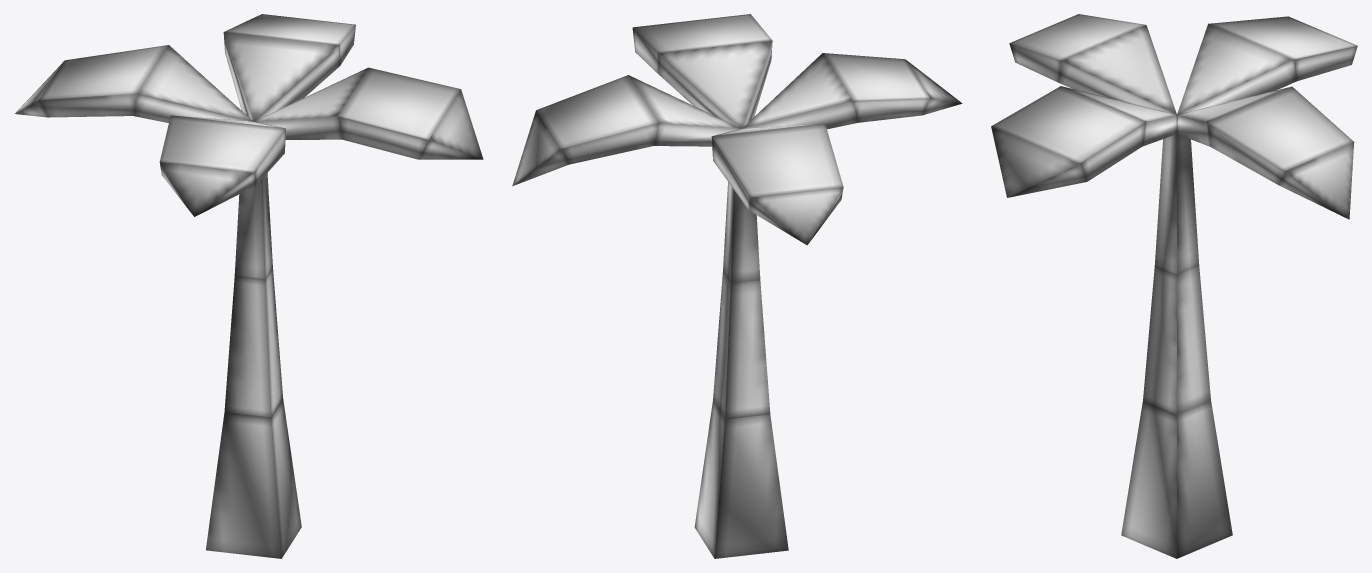
File: Palmtree-01.fbx
The picture shows the model from 3 angles, left to right: view 1: azimuth 30°, elevation 25°; view 2: azimuth 150°, elevation 25°; view 3: azimuth 270°, elevation 25°; orthographic projection. The views are drawn at different scales.
Parts seen in each view (by area): view 1: Palmtree-01; view 2: Palmtree-01; view 3: Palmtree-01.
Part boxes in pixels (box(x1,y1,x2,y2)): Palmtree-01: box(15, 14, 483, 558); Palmtree-01: box(512, 14, 962, 558); Palmtree-01: box(991, 14, 1357, 558).
Size of the model in its own units: 0.685 by 0.943 by 0.6783.
